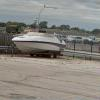Boat: (8, 23, 66, 65)
